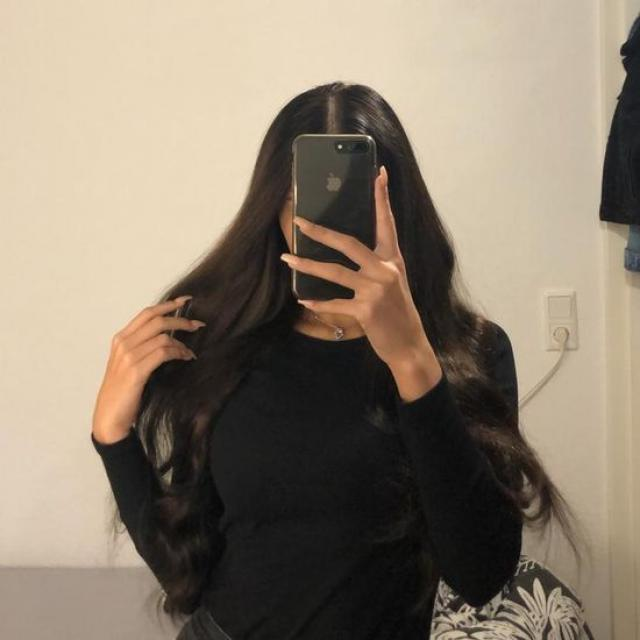phone: (292, 134, 378, 301)
